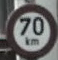Speed limit: (5, 5, 53, 52)
